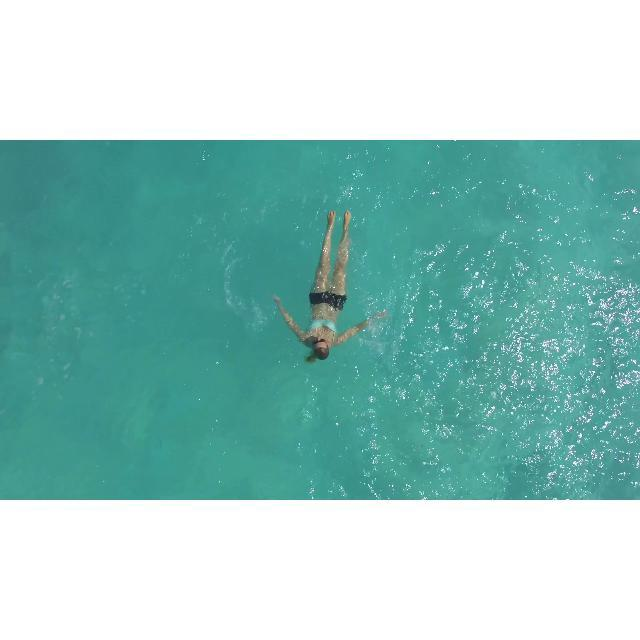human: (272, 210, 387, 363)
